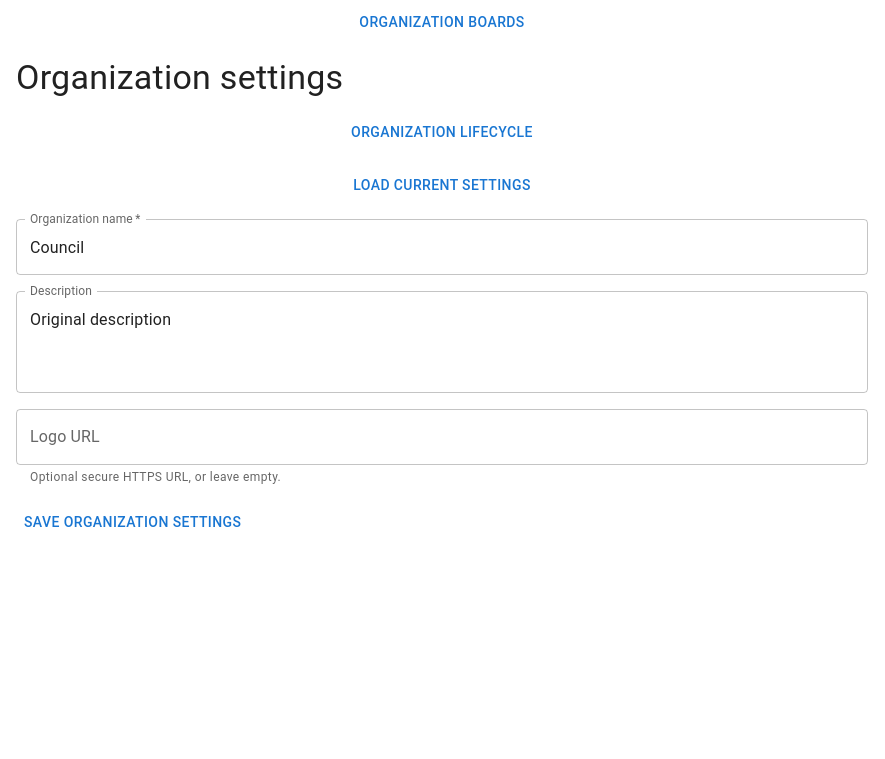
PRD-03-TC-01/05/06/08 Organization metadata administration › withdraws stale review controls and requires a fresh read after a failed refresh
This screenshot has width=885, height=759.
Replace the text in the field labelled "Organization name *" with "Draft" at {"x": 442, "y": 248}, box [16, 220, 868, 276]
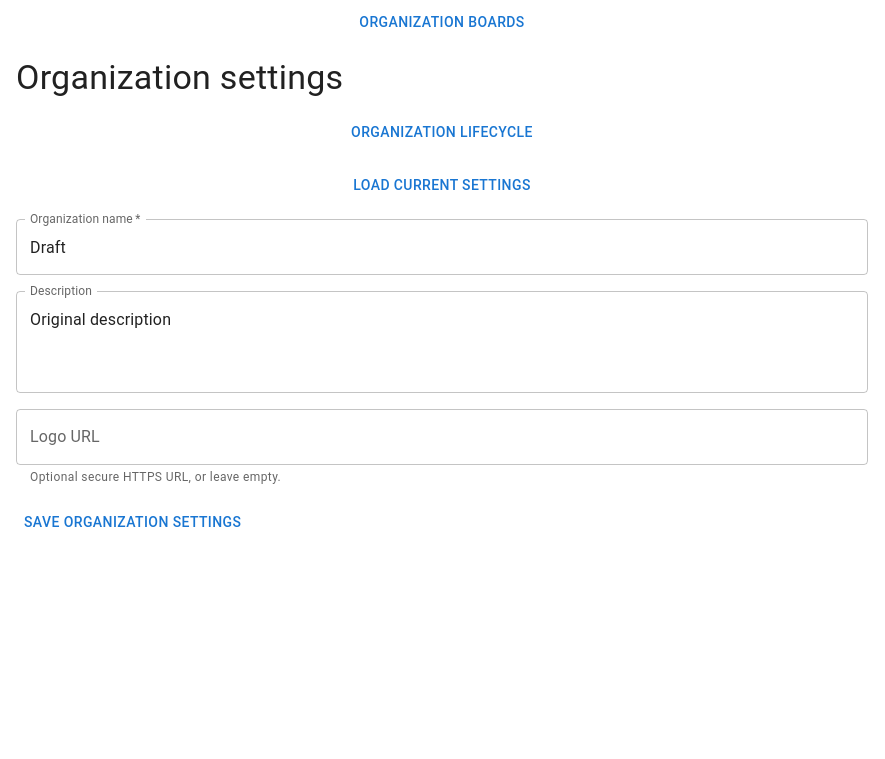
Click the button "Load current settings" at {"x": 442, "y": 185}, box [16, 167, 868, 204]
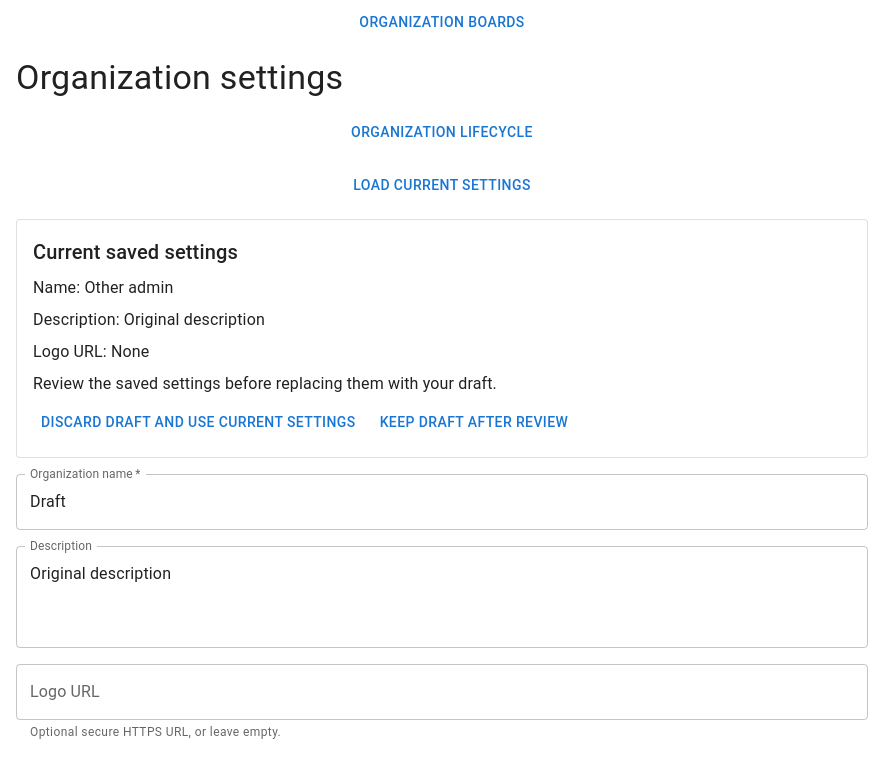
Expected: the text "Name: Other admin" is shown, [33, 278, 174, 298]
Click the button "Load current settings" at {"x": 442, "y": 185}, box [16, 167, 868, 204]
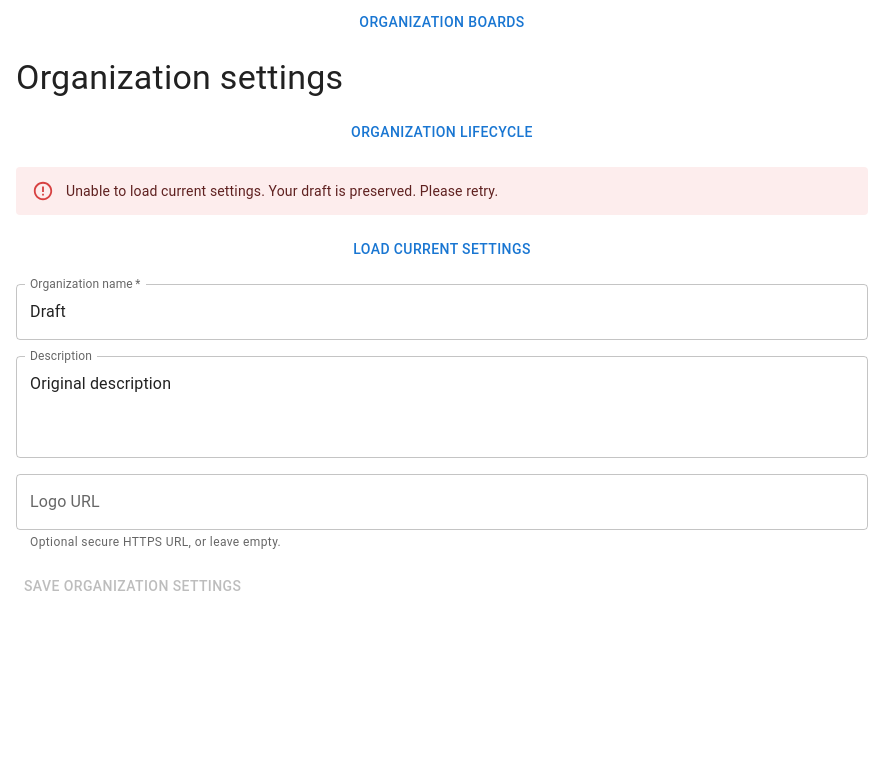
Expected: the button "Save Organization settings" is disabled, [16, 568, 249, 605]
Expected: the text "Unable to load current settings" is shown, [66, 183, 498, 199]
Expected: the button "Keep draft after review" is gone
